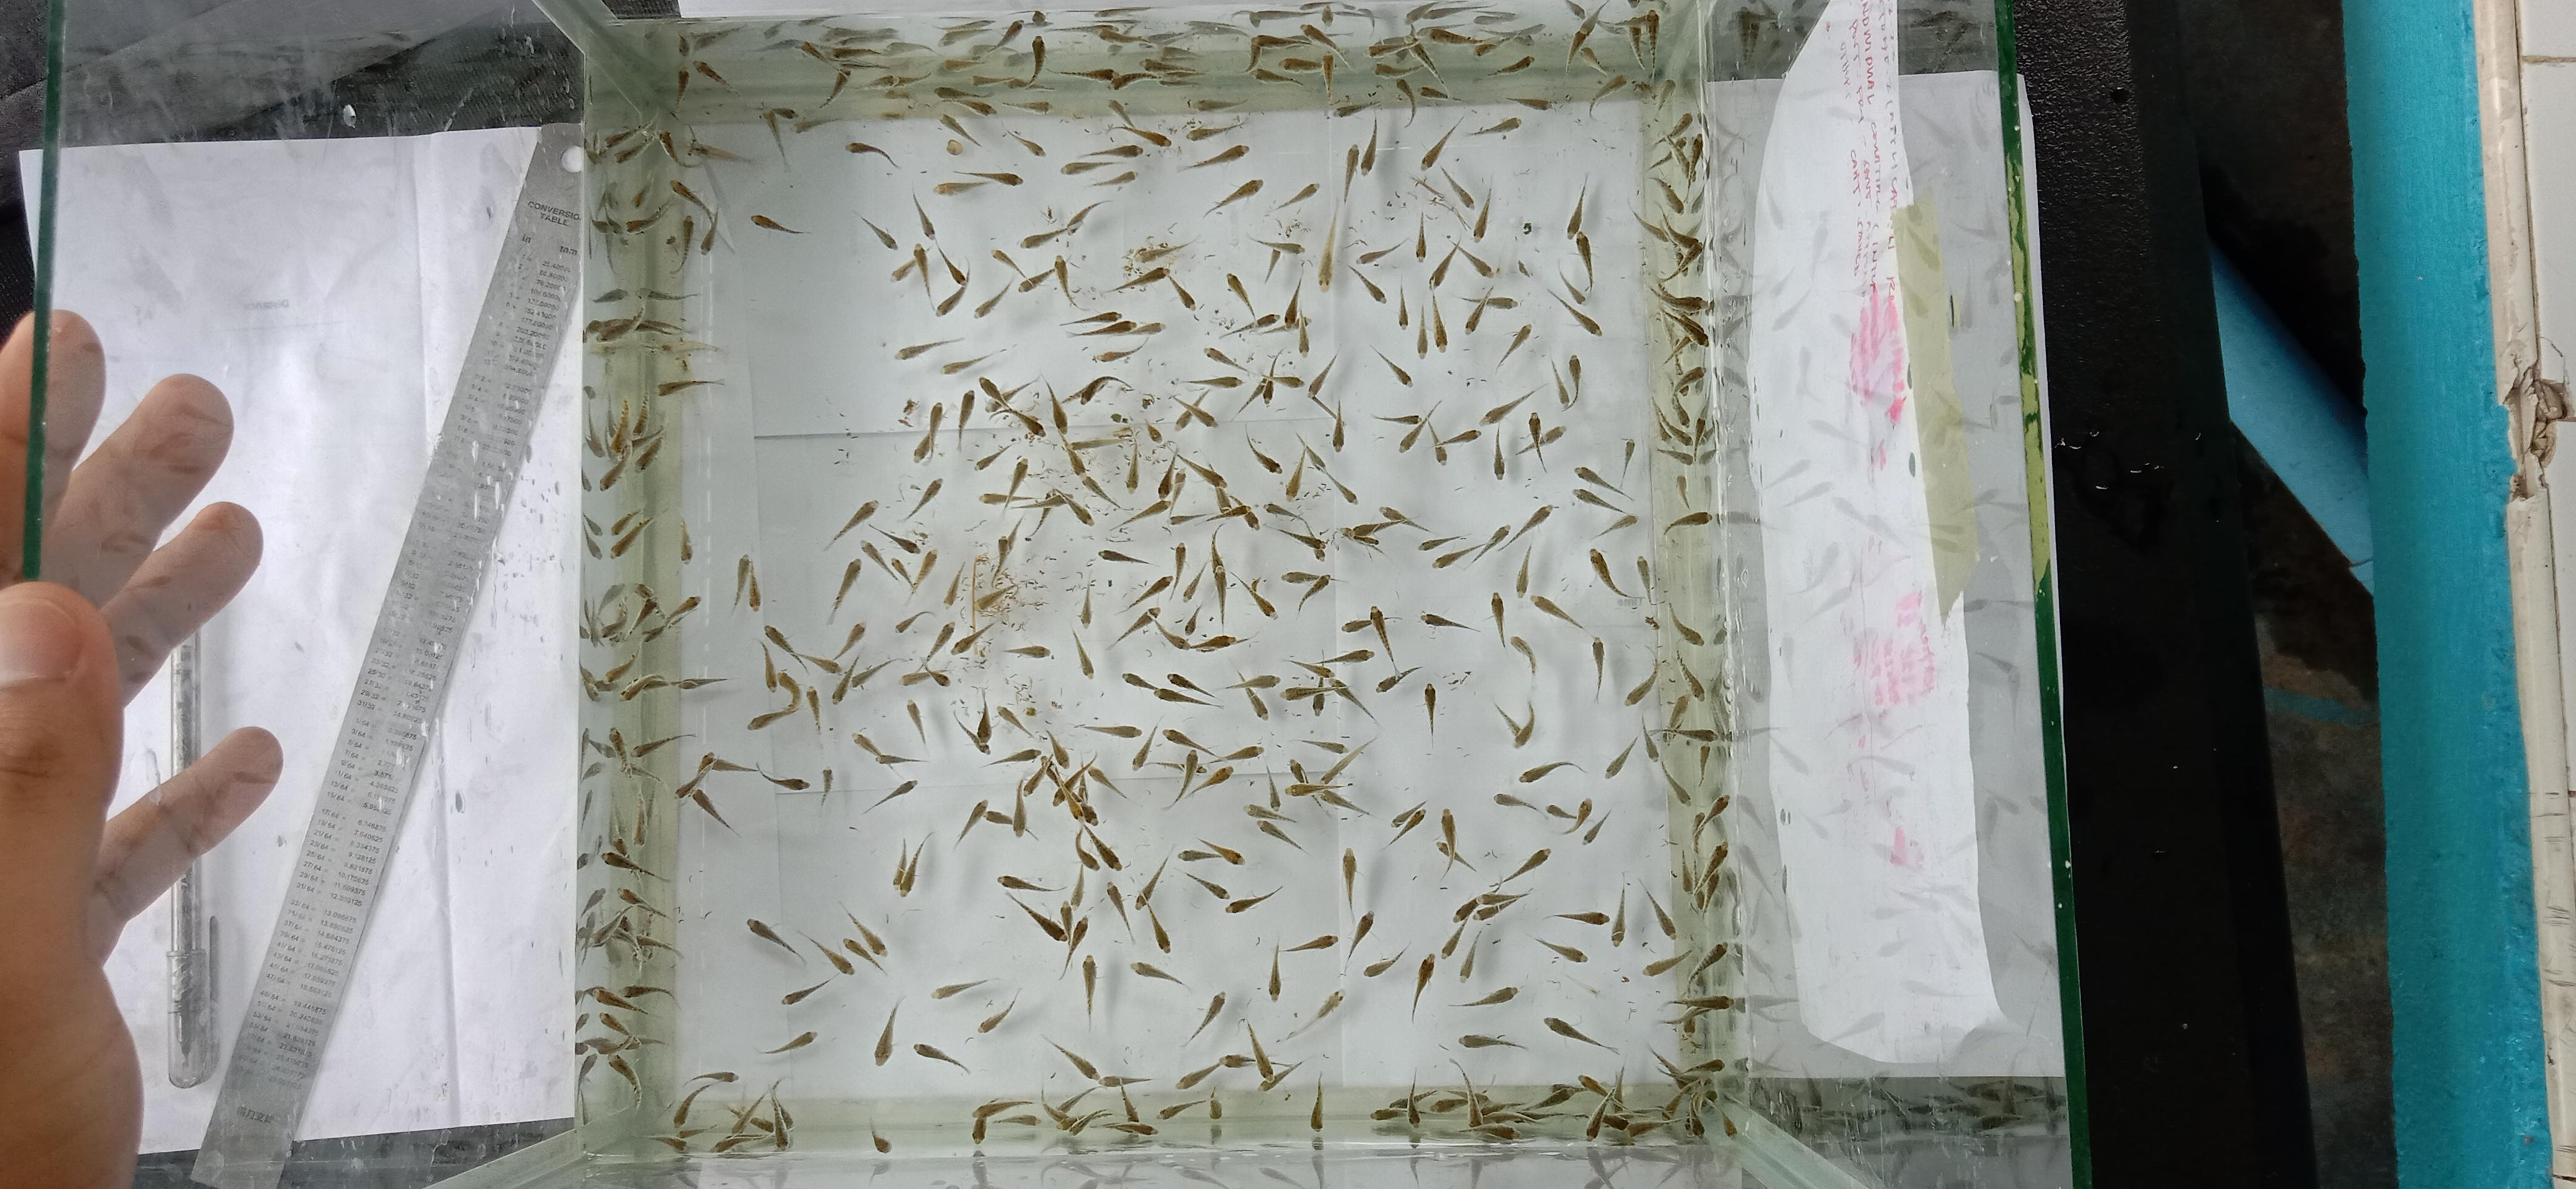fingerling: (1238, 5, 1405, 105), (1441, 845, 1551, 977), (759, 619, 913, 706), (1203, 343, 1341, 424), (794, 35, 938, 108), (1176, 523, 1276, 625), (578, 579, 701, 651), (1578, 1066, 1672, 1146), (1281, 650, 1378, 725), (1172, 450, 1259, 531), (1516, 258, 1602, 335), (1097, 234, 1197, 298), (981, 486, 1097, 541), (1245, 27, 1341, 92), (713, 1076, 793, 1155), (1048, 750, 1128, 827), (1316, 144, 1359, 290), (859, 525, 939, 598), (1042, 1034, 1151, 1085), (1368, 34, 1451, 97), (1404, 399, 1482, 466), (1116, 459, 1186, 533), (1474, 503, 1552, 564), (1633, 211, 1704, 277), (1291, 433, 1357, 504), (1055, 61, 1201, 93), (637, 215, 693, 298), (1060, 437, 1123, 511), (1559, 175, 1595, 302), (1266, 933, 1337, 998), (590, 180, 669, 239), (609, 508, 692, 563), (970, 527, 1020, 619), (1651, 396, 1717, 466), (1339, 847, 1375, 975), (598, 424, 666, 491), (1641, 717, 1692, 804), (977, 374, 1045, 439), (1481, 1084, 1577, 1130), (1242, 1019, 1301, 1092), (1020, 200, 1105, 250), (674, 750, 758, 799), (1166, 375, 1242, 430), (1111, 604, 1194, 654), (1045, 379, 1087, 475), (1040, 1077, 1109, 1136), (659, 126, 755, 168), (762, 622, 840, 673), (1342, 503, 1427, 551), (598, 920, 680, 968), (596, 581, 659, 643), (1134, 853, 1172, 953), (1489, 591, 1536, 672), (669, 178, 720, 253), (1357, 212, 1428, 266), (1373, 400, 1442, 456), (1431, 523, 1512, 570), (1120, 671, 1222, 707), (635, 317, 726, 357), (672, 1070, 736, 1126), (1242, 352, 1304, 411), (1163, 728, 1263, 763), (831, 653, 900, 703), (1001, 891, 1067, 943), (1341, 603, 1398, 663), (1232, 310, 1313, 352), (1243, 1, 1375, 27), (702, 165, 738, 256), (793, 107, 908, 134), (747, 672, 802, 730), (1063, 310, 1165, 341), (1108, 98, 1172, 148), (577, 583, 627, 646), (1287, 780, 1372, 817), (969, 1097, 1037, 1143), (1285, 988, 1346, 1040), (1573, 489, 1637, 537), (598, 404, 633, 490), (1513, 412, 1566, 470), (1220, 667, 1279, 718), (1577, 1069, 1620, 1140), (620, 673, 727, 701), (1434, 808, 1477, 878), (579, 650, 639, 700), (990, 247, 1055, 293), (1544, 1016, 1620, 1054), (642, 594, 700, 643), (966, 19, 1026, 68), (823, 499, 879, 550), (1169, 501, 1259, 533), (745, 916, 803, 965), (1451, 1060, 1492, 1129), (797, 39, 889, 69), (840, 899, 887, 959), (586, 126, 653, 167), (983, 785, 1033, 839), (1566, 0, 1607, 67), (1050, 770, 1099, 826), (952, 687, 993, 754), (1644, 277, 1713, 316), (1406, 0, 1512, 25), (1647, 110, 1695, 167), (1287, 648, 1373, 679), (891, 831, 931, 897), (761, 18, 843, 50), (1250, 236, 1305, 284), (851, 731, 925, 767), (1546, 289, 1602, 335), (598, 1012, 664, 1051), (1042, 1035, 1098, 1081), (859, 542, 911, 591), (1108, 1086, 1157, 1139), (1452, 889, 1529, 922), (1181, 990, 1225, 1047), (1098, 1074, 1151, 1122), (606, 727, 655, 779), (1460, 289, 1516, 333), (1323, 678, 1377, 724), (1474, 23, 1546, 57), (1305, 390, 1345, 451), (1603, 1108, 1671, 1144), (1281, 569, 1334, 615), (1482, 385, 1543, 425), (1061, 145, 1142, 175), (577, 985, 649, 1018), (980, 456, 1030, 503), (934, 250, 969, 316), (1657, 303, 1710, 347), (801, 931, 855, 975), (1204, 177, 1263, 217), (863, 59, 938, 90), (827, 556, 861, 623), (935, 169, 1022, 196), (1494, 847, 1550, 887), (591, 284, 700, 305), (1127, 232, 1193, 267), (1624, 10, 1660, 74), (813, 22, 900, 48), (601, 914, 644, 966), (1409, 42, 1451, 96), (1096, 24, 1180, 50), (1695, 842, 1728, 910), (1281, 282, 1311, 354), (1179, 764, 1231, 806), (873, 995, 904, 1065), (1179, 141, 1251, 172), (759, 107, 795, 168), (590, 214, 628, 272), (616, 886, 676, 923), (1099, 264, 1169, 295), (601, 849, 666, 882), (1074, 827, 1122, 871), (1492, 699, 1535, 749), (1117, 495, 1175, 533), (689, 788, 735, 834), (1254, 814, 1307, 855), (1103, 879, 1136, 944), (1573, 464, 1632, 500), (673, 750, 715, 800), (1173, 450, 1227, 489), (580, 909, 630, 951), (1640, 882, 1677, 938), (1161, 752, 1198, 808), (630, 772, 658, 847), (1647, 1045, 1694, 1089), (1245, 32, 1294, 74), (1419, 120, 1461, 170), (1071, 373, 1132, 407), (1208, 526, 1229, 624), (1588, 548, 1629, 599), (1661, 995, 1730, 1025), (1121, 572, 1173, 611), (863, 777, 918, 814), (598, 179, 651, 217), (1133, 853, 1170, 907), (1059, 915, 1090, 979), (1529, 593, 1584, 630), (1316, 208, 1340, 290), (941, 347, 1009, 375), (1112, 606, 1159, 648), (609, 510, 650, 558), (1146, 608, 1192, 650), (1009, 34, 1045, 87), (912, 402, 943, 463), (1178, 837, 1243, 866), (1688, 941, 1727, 990), (1012, 498, 1057, 540), (1544, 967, 1603, 999), (1691, 792, 1729, 842), (912, 1041, 969, 1074), (1276, 525, 1328, 561), (1019, 257, 1069, 294), (583, 312, 643, 343), (1648, 720, 1716, 747), (977, 990, 1018, 1034), (663, 216, 692, 277), (934, 87, 996, 117), (1652, 400, 1693, 445), (1224, 884, 1282, 915), (972, 576, 1017, 616), (1159, 1092, 1222, 1120), (574, 1048, 598, 1123), (1567, 232, 1595, 298), (1411, 952, 1437, 1021), (1387, 802, 1427, 847), (658, 128, 703, 167), (1458, 918, 1487, 980), (1047, 488, 1094, 526), (1235, 575, 1277, 618), (902, 477, 942, 521), (1665, 602, 1705, 647), (1508, 503, 1552, 543), (670, 179, 714, 219), (951, 620, 996, 658), (1344, 911, 1374, 969), (1217, 489, 1259, 531), (1167, 671, 1221, 702), (1141, 56, 1204, 83), (1588, 74, 1628, 116), (845, 139, 898, 172), (1172, 393, 1217, 431), (840, 934, 885, 972), (630, 732, 696, 758), (1550, 354, 1581, 409), (998, 404, 1045, 440), (672, 1082, 710, 1126), (1546, 796, 1593, 832), (732, 554, 760, 612), (1495, 323, 1532, 368), (1450, 984, 1518, 1009), (1268, 181, 1319, 214), (770, 1080, 793, 1151), (1573, 487, 1630, 516), (894, 336, 962, 360), (1371, 346, 1411, 386), (869, 525, 926, 554), (937, 19, 993, 48), (1077, 473, 1121, 510), (1224, 271, 1257, 320), (1518, 760, 1585, 784), (1163, 728, 1216, 758), (968, 65, 1041, 87), (1438, 167, 1476, 209), (1526, 1081, 1578, 1112), (1084, 764, 1128, 801), (1603, 734, 1638, 779), (1455, 242, 1497, 280), (759, 1028, 817, 1055), (1368, 604, 1396, 663), (606, 398, 633, 456), (1624, 662, 1660, 706), (954, 798, 988, 845), (1347, 264, 1387, 304), (1130, 960, 1186, 988), (1043, 380, 1071, 437), (1142, 900, 1172, 953), (1408, 174, 1450, 211), (921, 619, 955, 665), (1642, 947, 1694, 978), (889, 243, 927, 284), (582, 399, 607, 459), (938, 112, 980, 149), (995, 703, 1037, 739), (689, 141, 756, 164), (1301, 22, 1344, 58), (762, 622, 803, 660), (1648, 175, 1686, 216), (1361, 945, 1407, 978), (1673, 655, 1706, 700), (1307, 351, 1339, 396), (1062, 310, 1126, 334), (972, 281, 1011, 319), (1662, 510, 1713, 539), (632, 427, 666, 471), (1175, 1058, 1222, 1090), (1534, 936, 1587, 963), (713, 1131, 772, 1156), (1357, 238, 1408, 266), (1222, 312, 1279, 337), (1437, 914, 1470, 957), (658, 338, 726, 359), (1427, 243, 1458, 289), (1052, 254, 1079, 307), (1301, 1, 1375, 20), (1181, 870, 1228, 900), (908, 546, 938, 593), (832, 621, 866, 663), (1183, 118, 1242, 142), (780, 978, 830, 1006), (606, 1053, 641, 1093), (1131, 723, 1160, 769), (858, 214, 897, 250), (1356, 115, 1379, 175), (632, 933, 681, 962), (1064, 860, 1090, 911), (1432, 542, 1483, 569), (630, 582, 658, 631), (979, 490, 1052, 509), (1079, 953, 1097, 1029), (758, 765, 809, 791), (1375, 664, 1422, 693), (1247, 435, 1281, 474), (1139, 394, 1167, 443), (1565, 178, 1588, 237), (1427, 27, 1489, 48), (656, 377, 724, 397), (1064, 200, 1105, 232), (1221, 668, 1279, 690), (1072, 721, 1141, 740), (1633, 211, 1671, 246), (1048, 764, 1078, 809), (1557, 265, 1591, 305), (991, 524, 1017, 575), (1070, 431, 1134, 451), (747, 703, 796, 730), (620, 672, 666, 701), (1393, 75, 1419, 125), (625, 204, 668, 235), (1679, 135, 1705, 184), (606, 727, 633, 775), (1245, 802, 1300, 825), (1379, 505, 1425, 533), (996, 873, 1060, 893), (602, 651, 639, 686), (578, 663, 612, 702), (1294, 432, 1327, 471), (942, 560, 968, 609), (1203, 345, 1247, 373), (1608, 882, 1627, 947), (574, 1034, 632, 1056), (1066, 789, 1100, 825), (912, 188, 936, 238), (1154, 457, 1182, 502), (1493, 791, 1541, 817), (982, 747, 1041, 768), (931, 978, 988, 1000), (1019, 754, 1050, 793), (1165, 272, 1196, 312), (1584, 1092, 1609, 1140), (977, 375, 1009, 412), (1190, 632, 1250, 652), (1420, 611, 1477, 632), (1180, 556, 1206, 603), (1505, 632, 1536, 672), (1460, 1033, 1526, 1051), (1325, 468, 1357, 505), (1367, 34, 1416, 59), (580, 511, 605, 559), (1415, 291, 1434, 355), (955, 390, 975, 451), (938, 247, 968, 286), (1340, 523, 1385, 549), (1043, 726, 1071, 768), (1341, 144, 1359, 207), (1005, 129, 1045, 158), (693, 58, 731, 89), (751, 212, 803, 234), (1071, 629, 1095, 678), (1287, 657, 1334, 682), (822, 68, 851, 107), (981, 805, 1019, 835), (1578, 1069, 1616, 1099), (1331, 94, 1378, 118), (1471, 186, 1492, 240), (798, 40, 839, 67), (1169, 542, 1189, 599), (1640, 715, 1663, 764), (1183, 96, 1250, 113), (1593, 512, 1637, 538), (1434, 427, 1481, 451), (611, 507, 648, 536), (1011, 785, 1032, 839), (1243, 9, 1304, 27), (1469, 116, 1520, 137), (934, 283, 967, 316), (990, 246, 1025, 278), (1171, 374, 1242, 390), (1251, 64, 1300, 86), (1210, 743, 1263, 763), (830, 661, 855, 704), (1308, 1072, 1326, 1135), (577, 886, 606, 923), (1281, 281, 1304, 328), (899, 666, 950, 687), (1580, 809, 1610, 845), (1431, 292, 1449, 351), (1590, 635, 1606, 702), (904, 698, 926, 746), (1282, 933, 1337, 952), (1664, 694, 1690, 733), (1673, 365, 1707, 396), (624, 985, 675, 1005), (635, 316, 682, 339), (1282, 453, 1305, 500), (1250, 235, 1304, 254), (598, 1010, 634, 1039), (1417, 531, 1468, 552), (1341, 847, 1357, 909), (1663, 110, 1695, 142), (635, 287, 700, 302), (1062, 438, 1088, 477), (1634, 555, 1654, 604), (1092, 344, 1144, 363), (1266, 941, 1283, 1000), (894, 609, 934, 634), (1120, 671, 1163, 695), (1027, 33, 1046, 84), (581, 728, 611, 762), (598, 456, 627, 490), (1515, 542, 1533, 597), (1461, 296, 1487, 334), (632, 794, 650, 847), (1550, 909, 1608, 926), (1058, 66, 1116, 83), (972, 445, 1008, 472), (758, 643, 777, 692), (1021, 229, 1068, 250), (1108, 96, 1136, 130), (1652, 444, 1695, 466), (1130, 266, 1168, 290), (939, 53, 987, 72), (1287, 775, 1330, 797), (575, 1050, 598, 1090), (994, 19, 1025, 50), (1089, 169, 1137, 188), (1123, 445, 1142, 493), (1281, 53, 1328, 72), (1421, 681, 1438, 735), (1473, 1122, 1518, 1143), (1098, 547, 1150, 565), (1251, 31, 1303, 48), (1381, 188, 1411, 218), (1097, 24, 1137, 46), (1326, 404, 1346, 451), (1320, 648, 1373, 664), (1281, 569, 1330, 587), (1494, 54, 1534, 76), (1372, 58, 1420, 76), (1110, 1120, 1157, 1138), (1450, 894, 1481, 921), (1619, 437, 1637, 484), (804, 686, 822, 732), (1001, 97, 1051, 114), (1430, 1093, 1467, 1116), (1318, 51, 1336, 99), (956, 97, 996, 117), (672, 67, 690, 112), (1369, 1102, 1412, 1120), (969, 76, 1025, 90), (649, 1135, 688, 1155), (934, 180, 983, 196), (1438, 808, 1458, 848), (1472, 10, 1517, 27), (1183, 604, 1209, 633), (1490, 429, 1506, 479), (1301, 736, 1347, 753), (1099, 1072, 1150, 1087), (1076, 583, 1094, 627), (1256, 372, 1278, 406), (1109, 71, 1145, 92), (591, 214, 624, 237), (1264, 769, 1282, 811), (1373, 410, 1421, 425), (1245, 687, 1268, 720), (1003, 644, 1050, 660), (679, 676, 726, 692), (687, 1069, 738, 1084), (1412, 213, 1428, 259), (1440, 668, 1474, 688), (1674, 473, 1693, 509), (1295, 314, 1312, 355), (897, 396, 918, 429), (1263, 500, 1301, 518), (678, 516, 692, 562), (817, 767, 833, 807), (591, 287, 627, 305), (1143, 416, 1165, 445), (1395, 285, 1409, 330), (579, 758, 607, 781), (1545, 802, 1577, 822), (1419, 84, 1451, 103), (760, 105, 797, 122), (869, 1125, 891, 1154), (1341, 617, 1374, 634), (1125, 320, 1165, 334), (1514, 97, 1552, 111), (1206, 1089, 1223, 1120), (934, 85, 968, 100), (1221, 1053, 1254, 1069), (1108, 412, 1135, 432), (1564, 0, 1587, 19), (944, 137, 965, 156), (572, 1011, 591, 1032), (1029, 9, 1049, 26), (575, 851, 591, 870)
